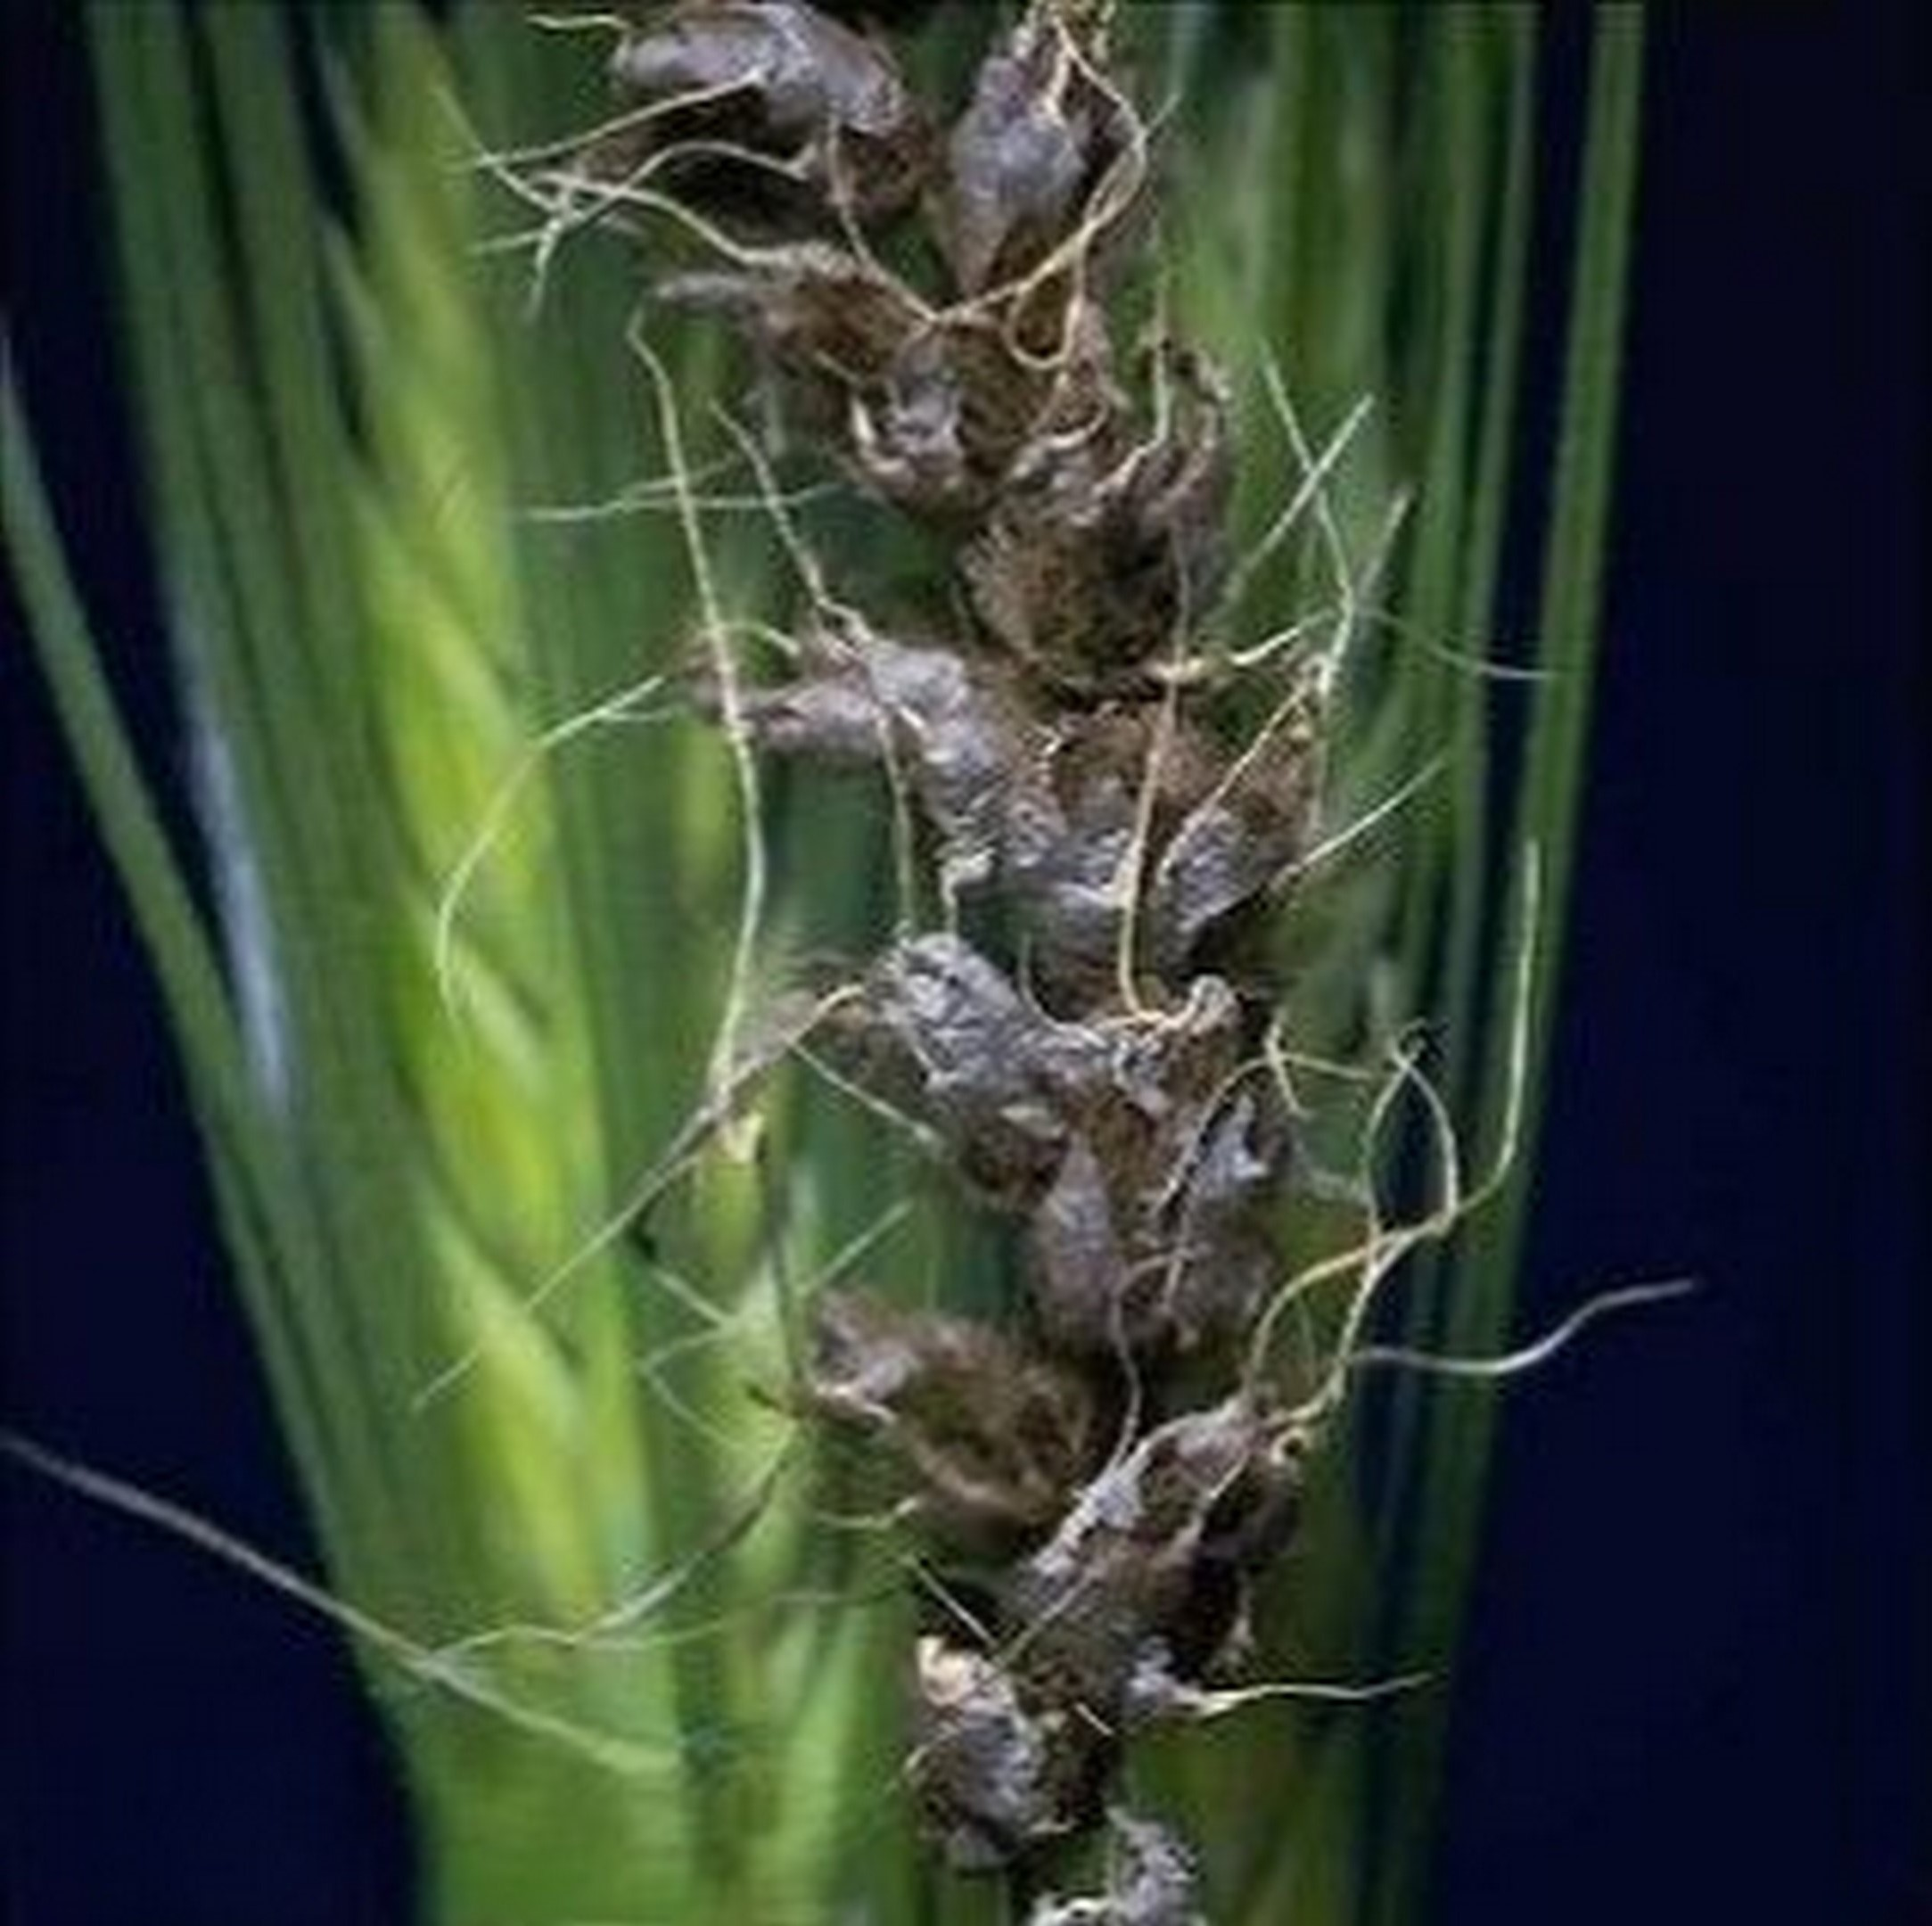Wheat Loose Smut: (672, 102, 1359, 1817)
